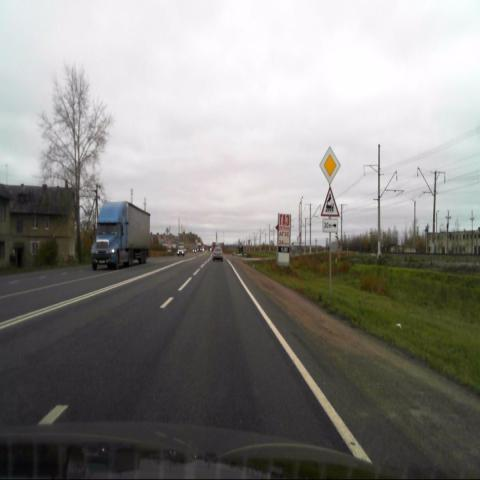1_2: (320, 186, 340, 217)
